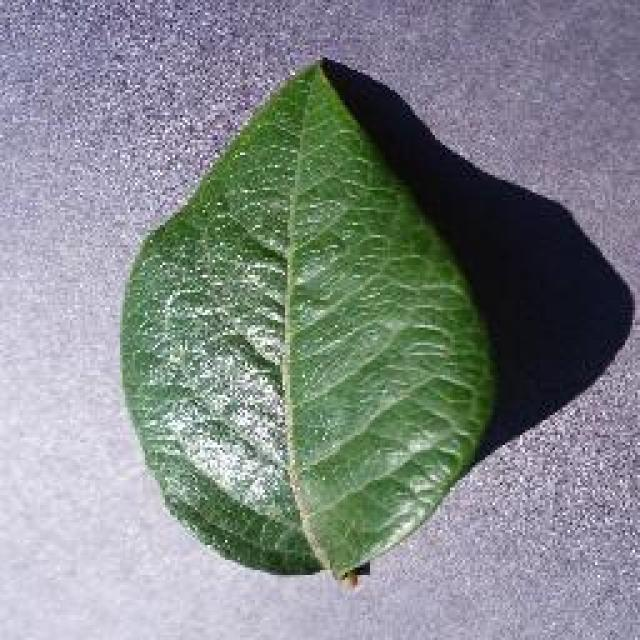Blu_healthy: (140, 174, 471, 528)
